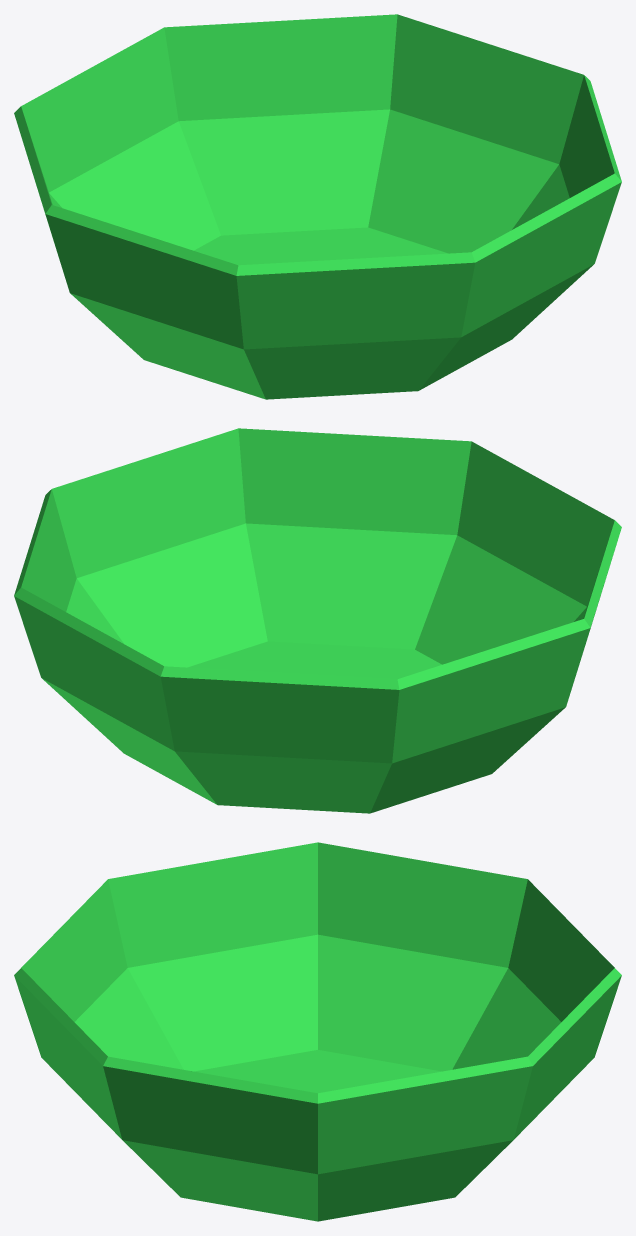
File: Pot_01.fbx
3 renders of one model, top to bottom at view 1: azimuth 30°, elevation 25°; view 2: azimuth 150°, elevation 25°; view 3: azimuth 270°, elevation 25°, orthographic. The views are drawn at different scales.
Parts seen in each view (by area): view 1: Pot_01; view 2: Pot_01; view 3: Pot_01.
Boxes of the visible parts, <box> form: Pot_01: <box>14,14,621,399</box>; Pot_01: <box>14,428,621,813</box>; Pot_01: <box>14,842,621,1221</box>.
Size of the model in its own units: 35.78 by 11.15 by 35.78.
